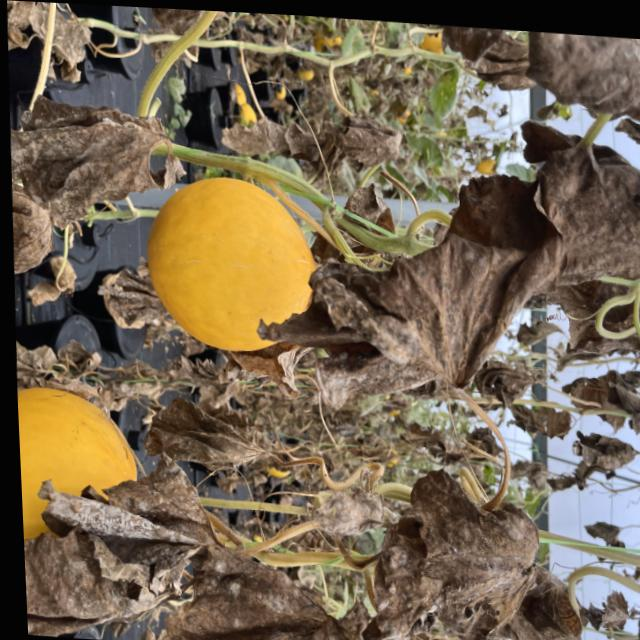bacterial wilt: (288, 162, 559, 428), (23, 452, 208, 640), (416, 477, 552, 632), (160, 539, 366, 640), (37, 87, 176, 218), (525, 31, 640, 145), (546, 140, 640, 275), (145, 393, 261, 473), (368, 516, 439, 634), (556, 286, 640, 369), (441, 25, 526, 100), (508, 576, 591, 640), (341, 110, 405, 190), (559, 364, 638, 428), (218, 103, 303, 160), (10, 198, 58, 279), (218, 347, 298, 394), (463, 359, 539, 398), (592, 584, 635, 640), (574, 428, 633, 465), (582, 506, 628, 547), (633, 607, 640, 640), (638, 384, 640, 437)
